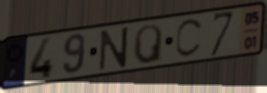4: (27, 35, 56, 81)
7: (209, 9, 237, 59)
9: (61, 32, 87, 77)
C: (173, 17, 206, 60)
N: (97, 24, 131, 73)
Q: (132, 22, 164, 66)
